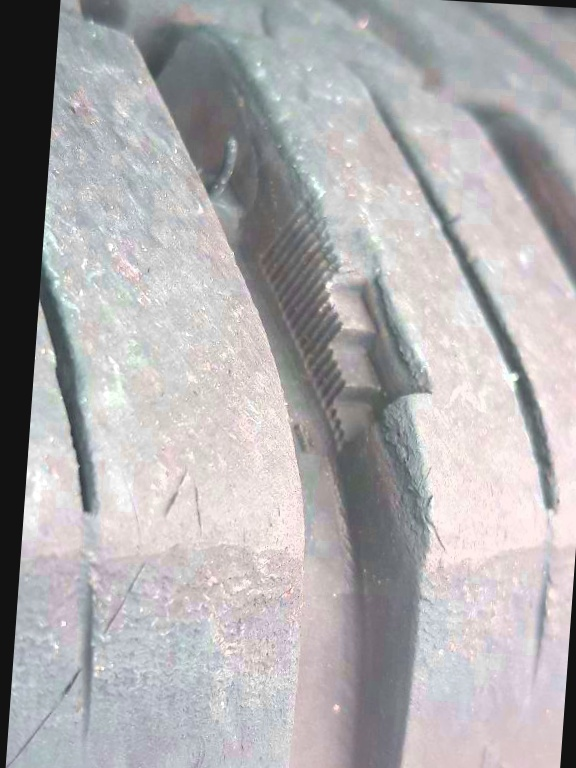temoin:80: (224, 171, 456, 470)
